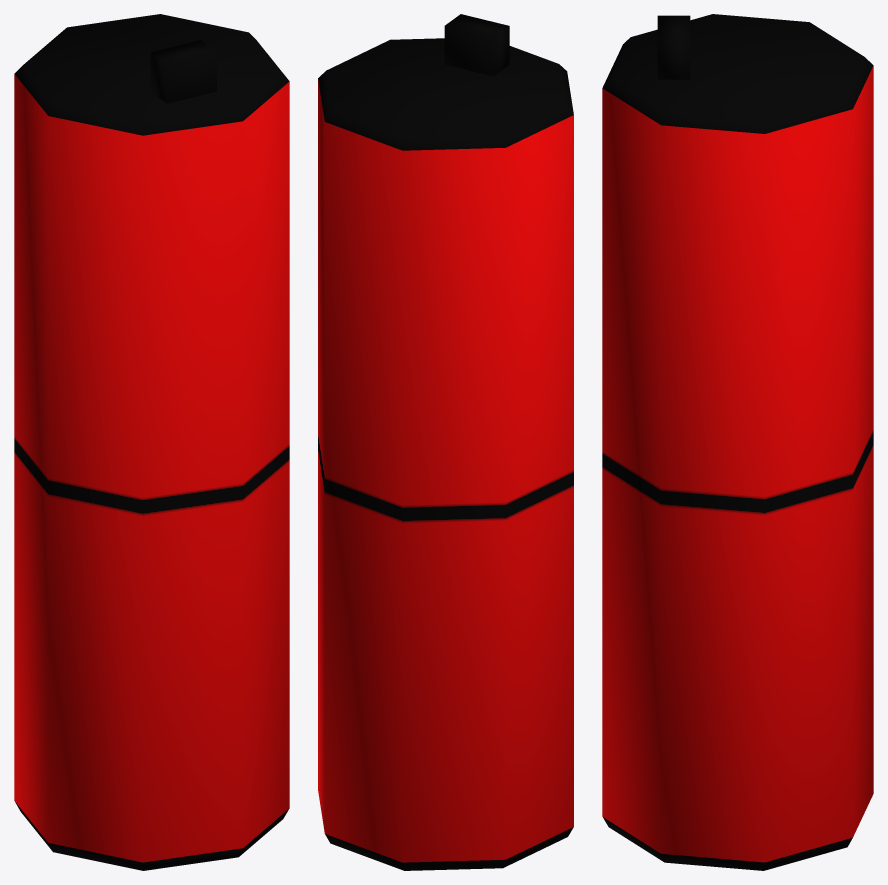
File: vape.fbx
3 renders of one model, left to right at view 1: azimuth 30°, elevation 25°; view 2: azimuth 150°, elevation 25°; view 3: azimuth 270°, elevation 25°, orthographic. The views are drawn at different scales.
Parts seen in each view (by area): view 1: Cube; view 2: Cube; view 3: Cube.
Boxes of the visible parts, x1=… form: Cube: x1=14, y1=14, x2=289, y2=870; Cube: x1=318, y1=14, x2=573, y2=870; Cube: x1=602, y1=14, x2=873, y2=870.
Bounding box in the file's own units: 8.9 × 28.88 × 8.9.
